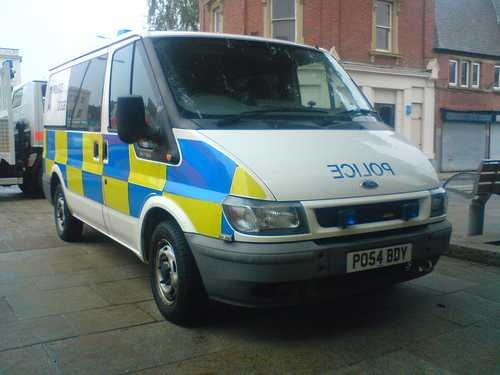Police Car: (17, 31, 455, 330)
